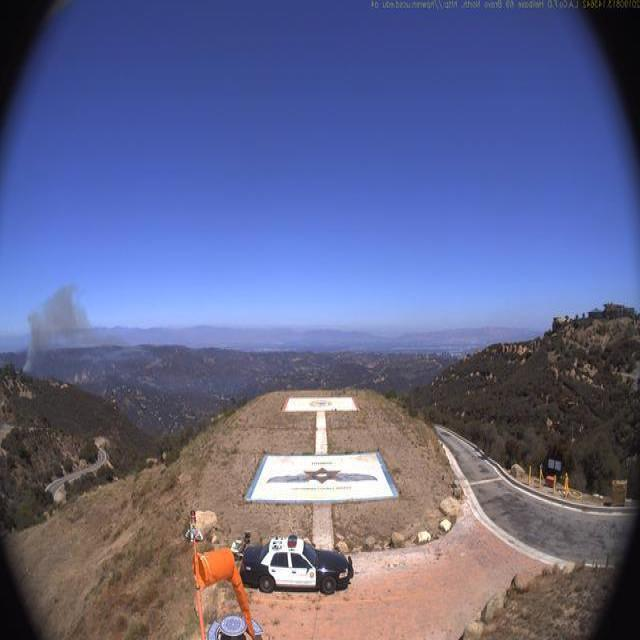Smoke: (22, 277, 101, 380)
